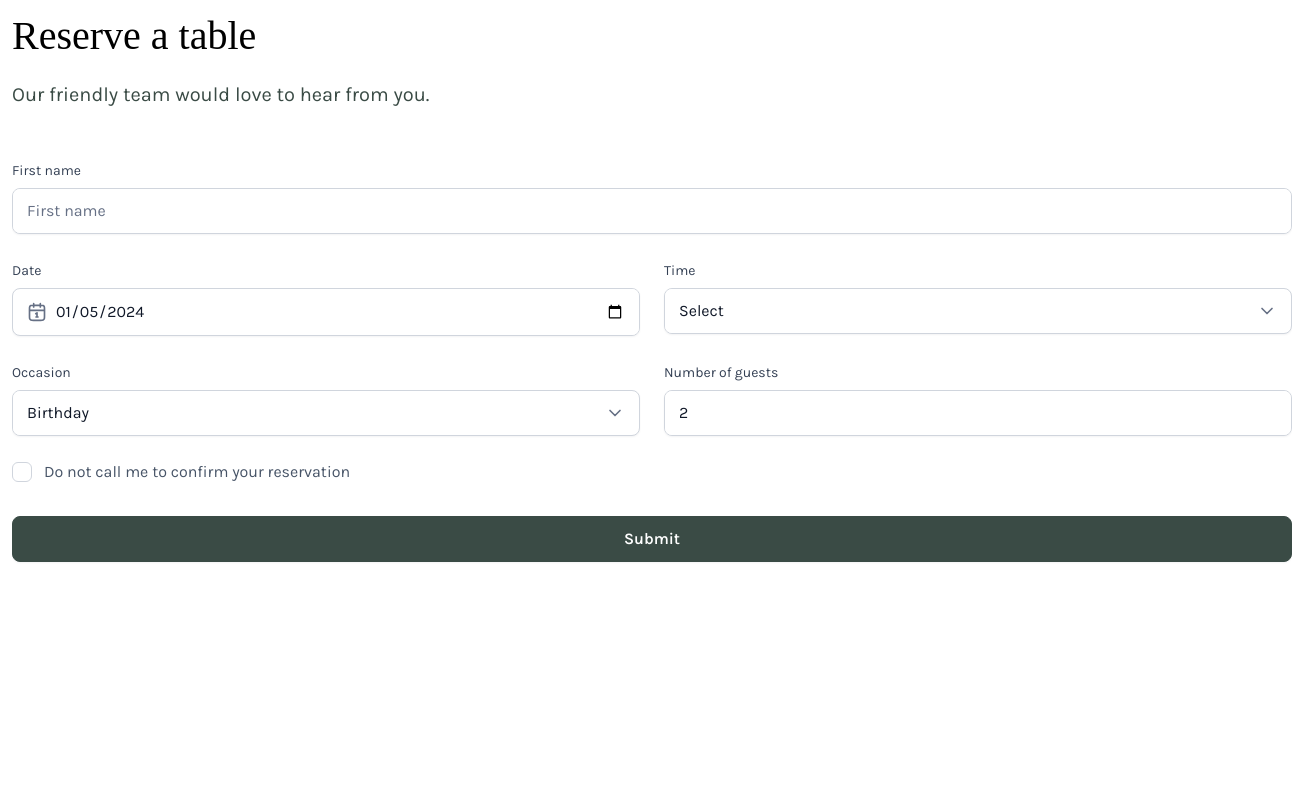
Test case: BookingForm Required validation
The width and height of the screenshot is (1304, 812).
In the field labelled "First name": coordinates (652, 211) top-left (13, 189), bottom-right (1291, 233), type "John"
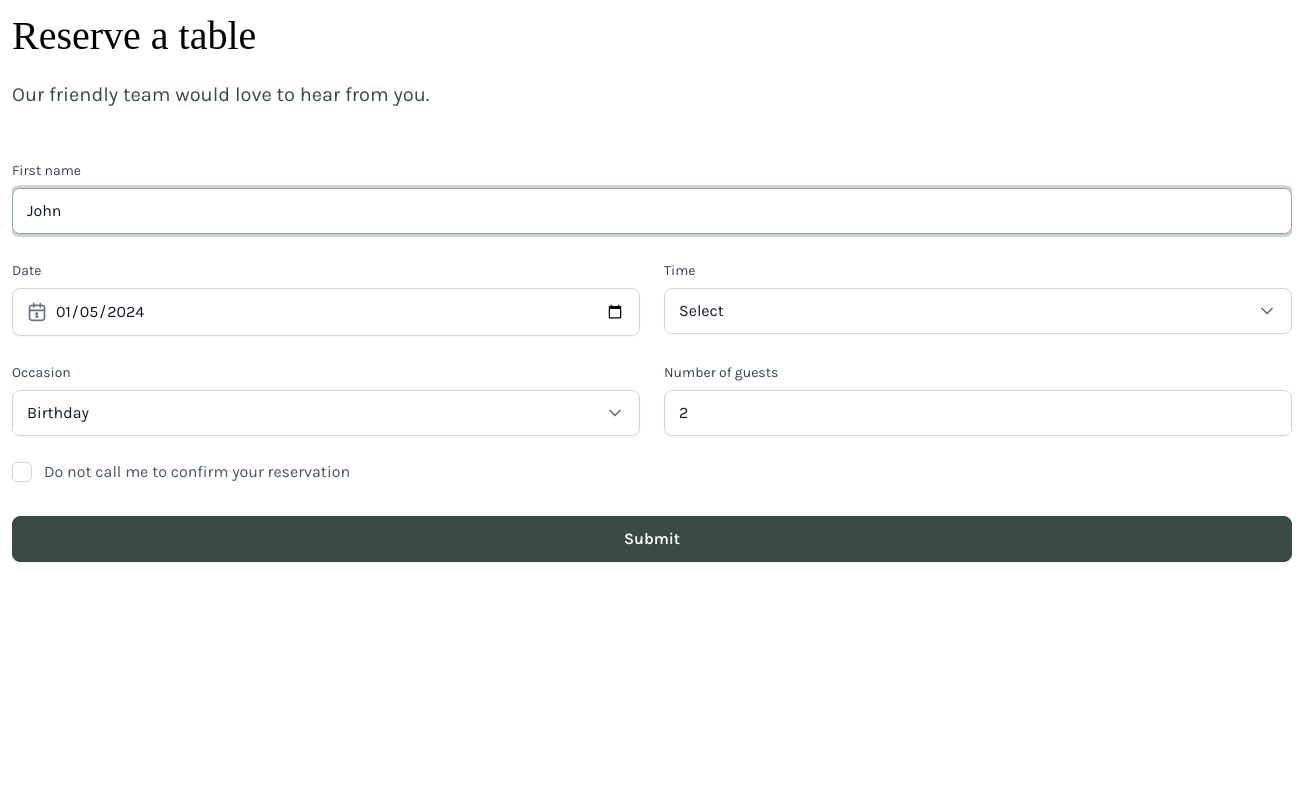
Click the button with test id "submit": coordinates (652, 539) top-left (12, 516), bottom-right (1292, 562)
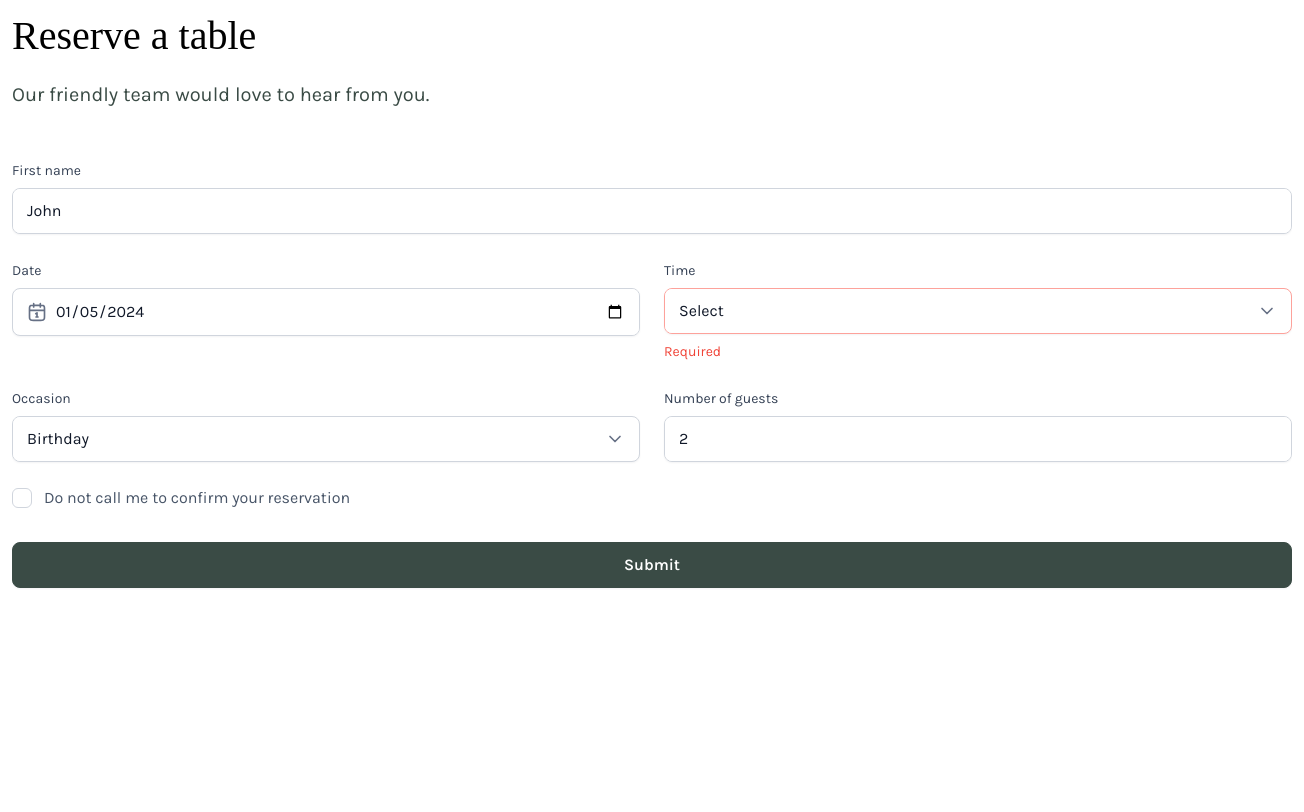
Result: the text "Required" is shown at top-left (664, 343), bottom-right (721, 360)
